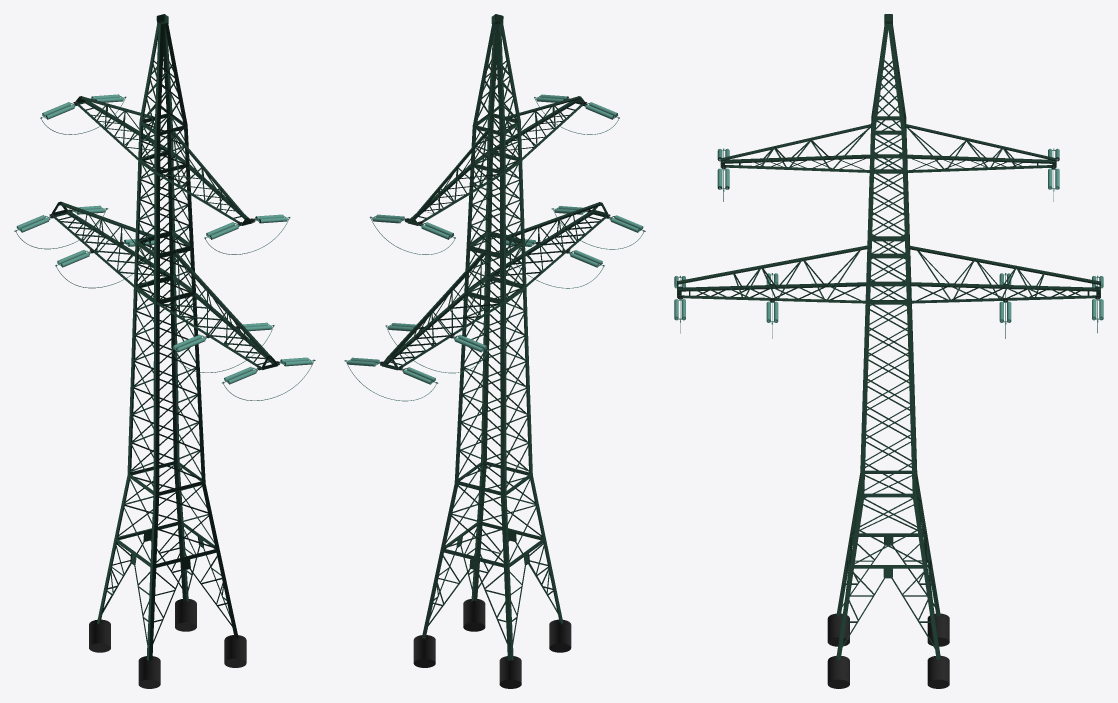
File: power_tower_danube_lowpoly.dae
The picture shows the model from 3 angles, left to right: view 1: azimuth 30°, elevation 25°; view 2: azimuth 150°, elevation 25°; view 3: azimuth 270°, elevation 25°; orthographic projection.
Visible parts, largest first — view 1: Object003; view 2: Object003; view 3: Object003.
Part boxes in pixels (<box>): Object003: <box>14,14,315,688</box>; Object003: <box>344,14,645,688</box>; Object003: <box>674,14,1103,688</box>.
Size of the model in its own units: 4 by 13.82 by 22.91.
